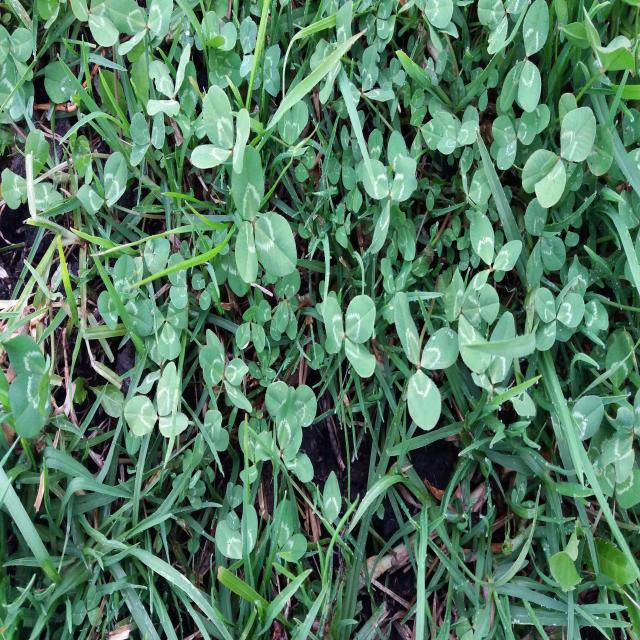Four Leaf Clover: (199, 329, 252, 412)
